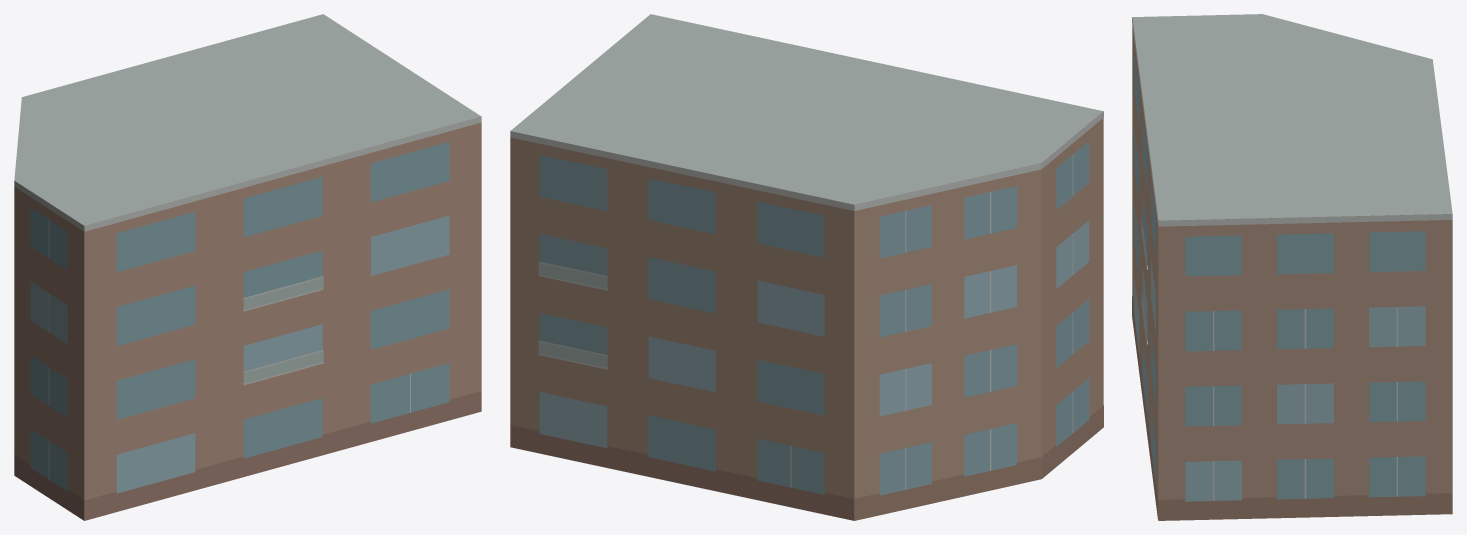
File: residential-c664c0d2-0611-44b5-83ad-aa30f028489c.glb
The picture shows the model from 3 angles, left to right: view 1: azimuth 30°, elevation 25°; view 2: azimuth 150°, elevation 25°; view 3: azimuth 270°, elevation 25°; orthographic projection. The views are drawn at different scales.
Visible parts, largest first — view 1: residential-c664c0d2-0611-44b5-83ad-aa30f028489c.tmp; view 2: residential-c664c0d2-0611-44b5-83ad-aa30f028489c.tmp; view 3: residential-c664c0d2-0611-44b5-83ad-aa30f028489c.tmp.
Part boxes in pixels (left/top/right/bottom): residential-c664c0d2-0611-44b5-83ad-aa30f028489c.tmp: left=14, top=14, right=481, bottom=520; residential-c664c0d2-0611-44b5-83ad-aa30f028489c.tmp: left=510, top=14, right=1103, bottom=520; residential-c664c0d2-0611-44b5-83ad-aa30f028489c.tmp: left=1132, top=14, right=1452, bottom=520.
Bounding box in the file's own units: 18.02 × 12.2 × 11.81.
